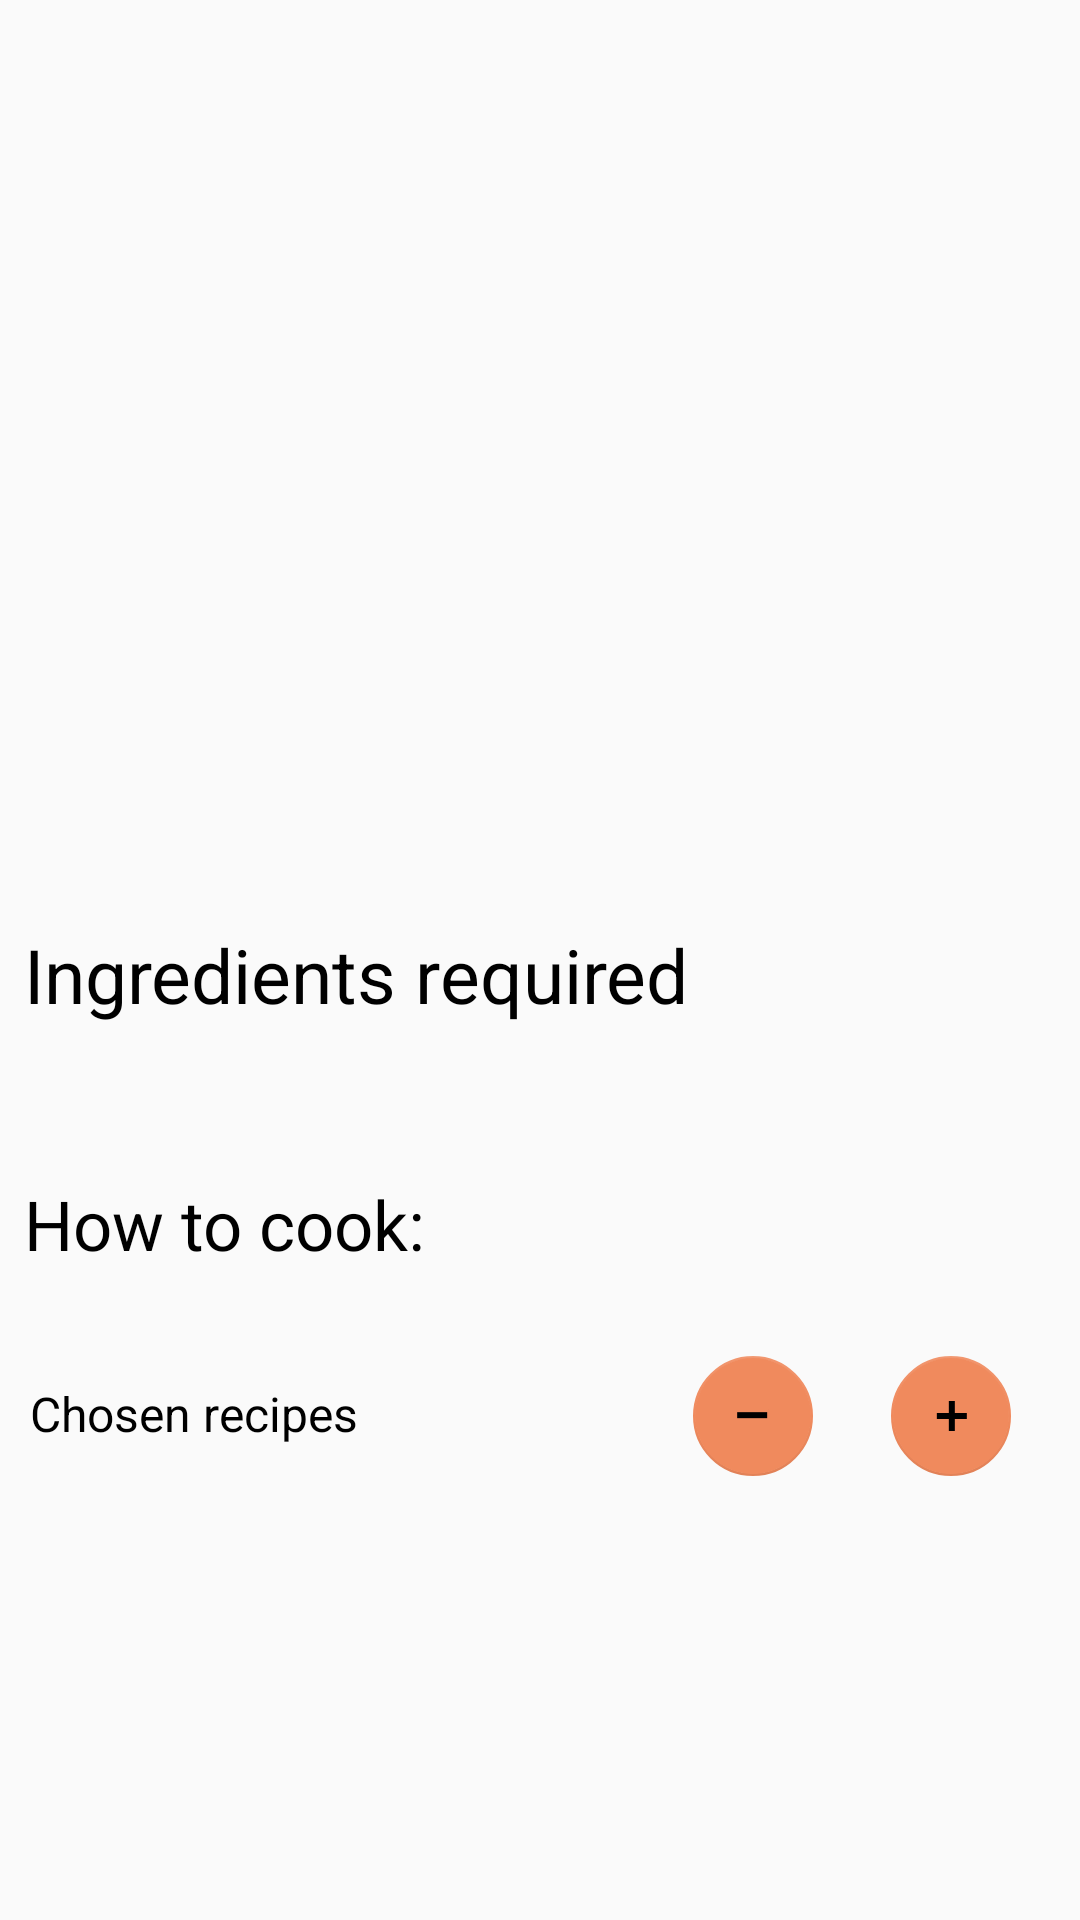

Screen size 1080 x 1920. Icon name, then its center in pixels as (x=x, y=y):
minus one: (x=753, y=1416)
plus one: (x=951, y=1416)
